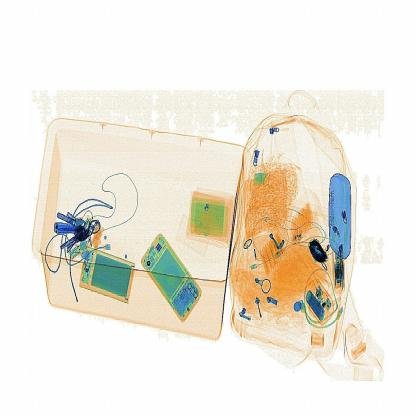scissors: (300, 227, 340, 270)
